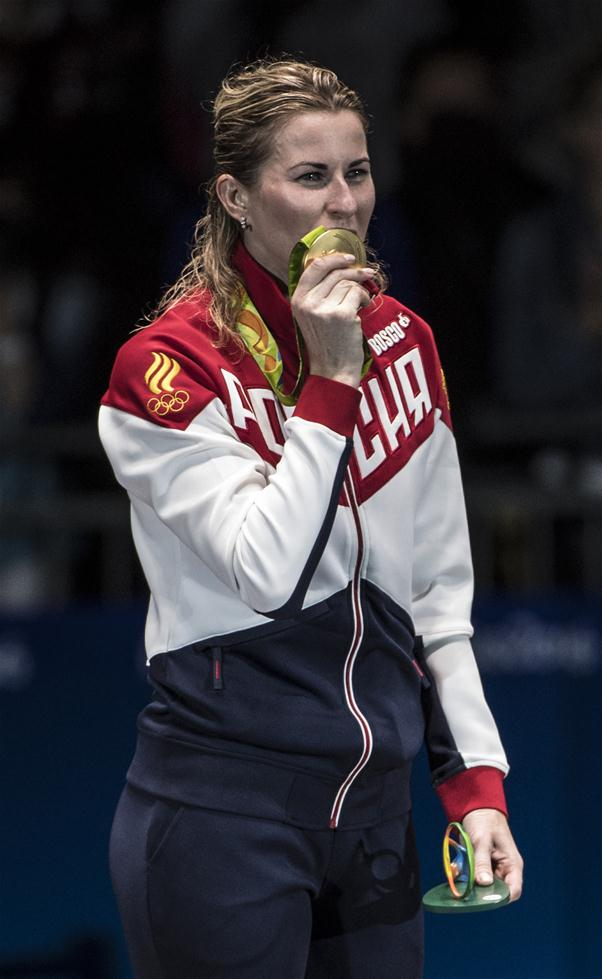face: (257, 96, 373, 284)
